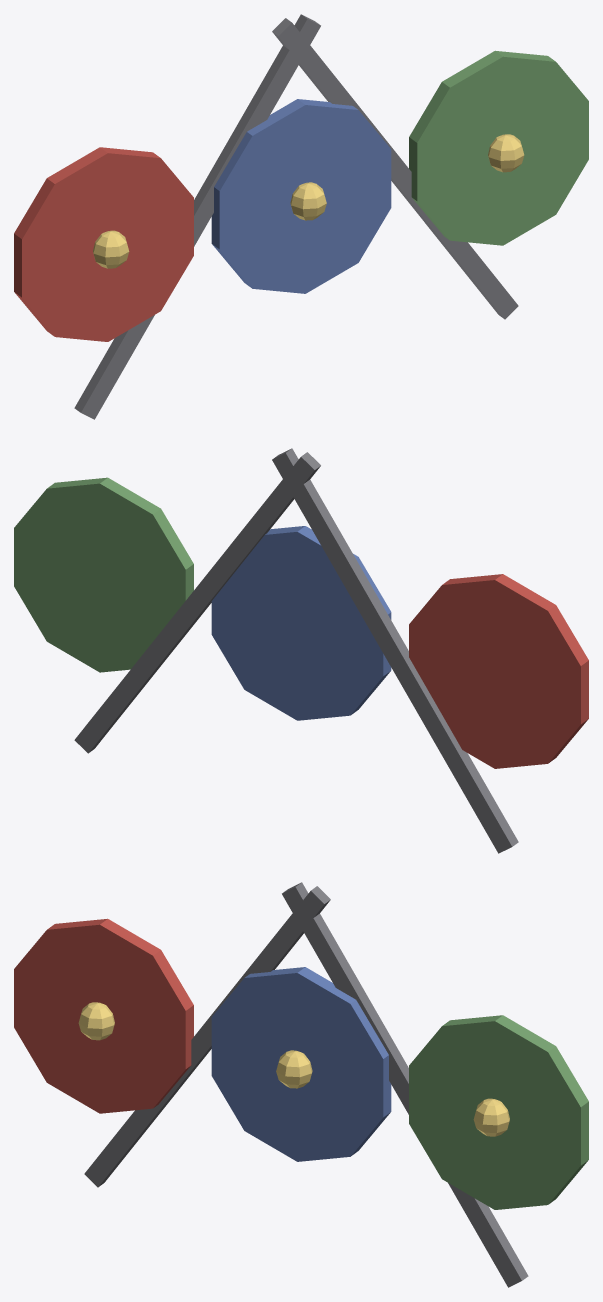
The model's file is shield_wall.glb.
3 views of the same model, one above another, from view 1: azimuth 30°, elevation 25°; view 2: azimuth 150°, elevation 25°; view 3: azimuth 330°, elevation 25° (orthographic).
Visible parts, largest first — view 1: shield_wall; view 2: shield_wall; view 3: shield_wall.
Part boxes in pixels (x1,y1,x2,y2): shield_wall: (14, 14, 588, 419); shield_wall: (14, 448, 588, 853); shield_wall: (14, 882, 588, 1287).
Size of the model in its own units: 2.01 by 1.18 by 0.1501.
